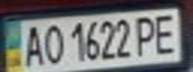1: (66, 19, 87, 62)
2: (112, 16, 136, 60), (97, 17, 118, 61)
6: (81, 18, 103, 62)
A: (18, 22, 45, 68)
E: (151, 11, 181, 56)
O: (39, 21, 66, 66)
P: (133, 12, 160, 57)
